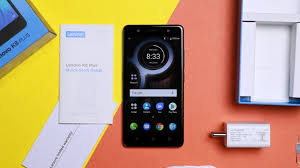lenovo: (119, 20, 186, 152)
